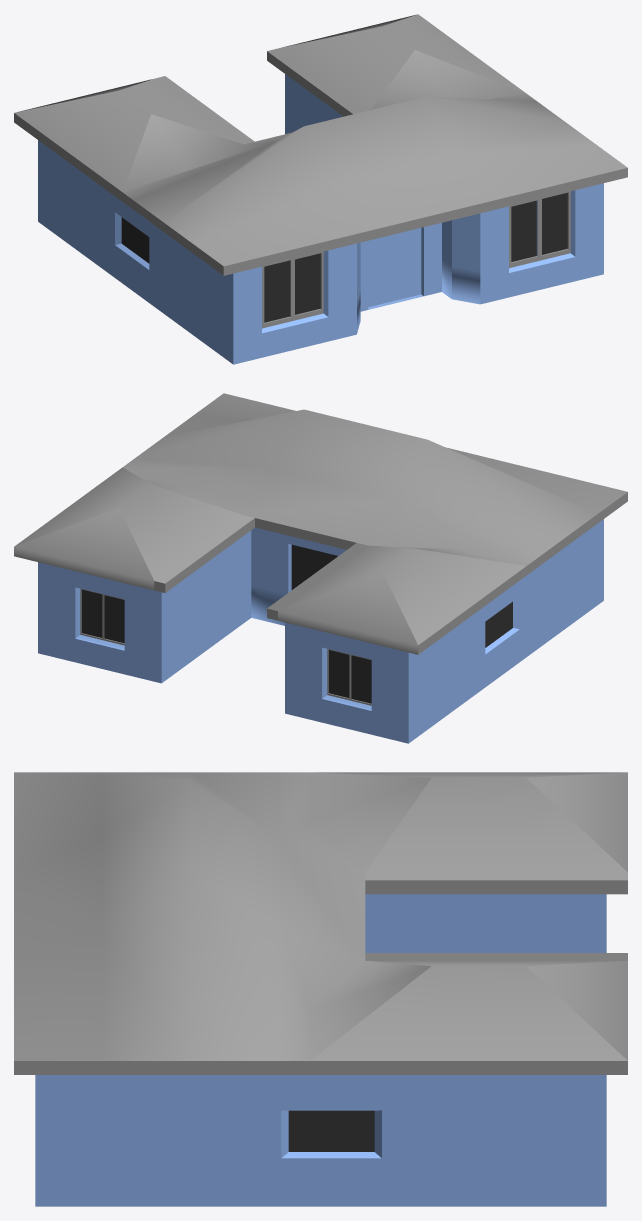
Rendered from House5.fbx.
3 renders of one model, top to bottom at view 1: azimuth 30°, elevation 25°; view 2: azimuth 150°, elevation 25°; view 3: azimuth 270°, elevation 25°, orthographic. The views are drawn at different scales.
Parts seen in each view (by area): view 1: House_5; view 2: House_5; view 3: House_5.
Part boxes in pixels (x1,y1,x2,y2): House_5: [14, 14, 627, 364]; House_5: [14, 393, 627, 743]; House_5: [14, 772, 627, 1206].
Bounding box in the file's own units: 1314 × 527 × 1181.
